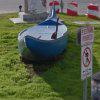Boat: (13, 11, 71, 65)
